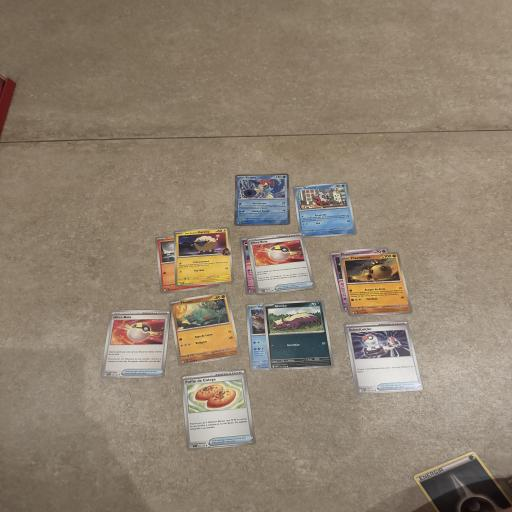card: (344, 312, 423, 401), (180, 368, 257, 452), (262, 296, 335, 374), (169, 291, 242, 366), (339, 251, 414, 318), (100, 310, 171, 378), (246, 231, 317, 296), (171, 227, 234, 287), (293, 182, 358, 239), (233, 173, 291, 226)
